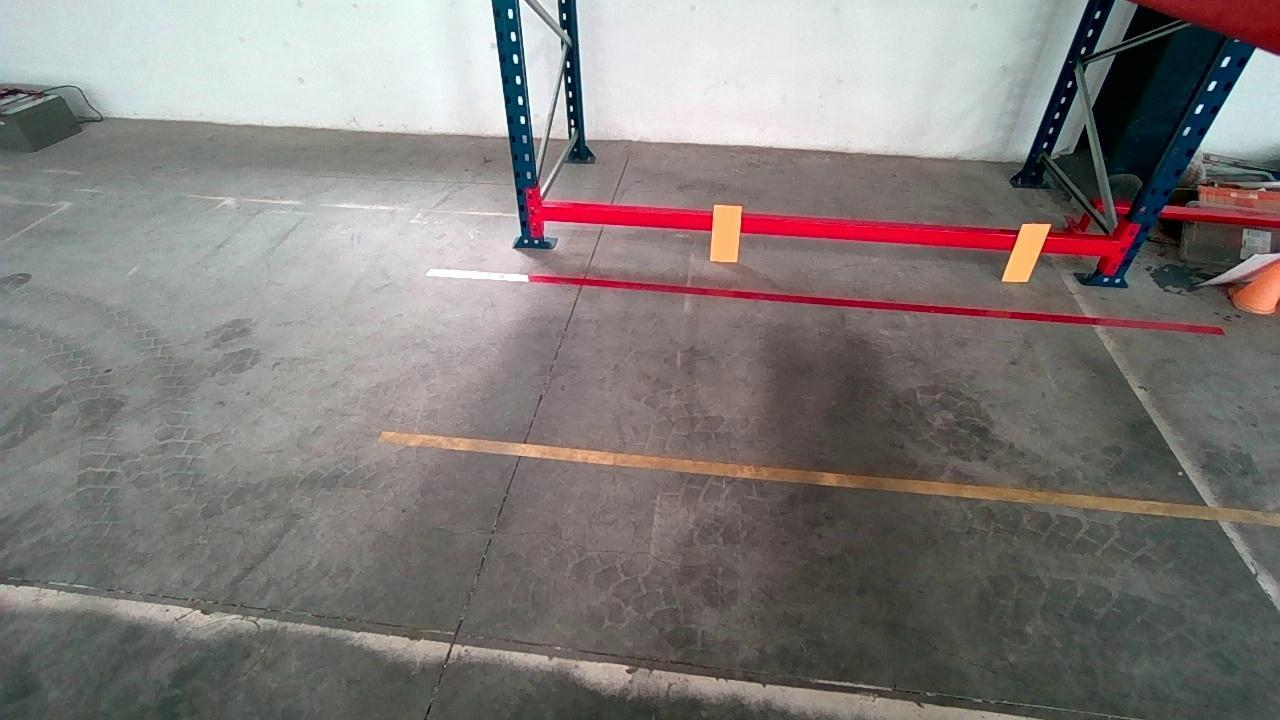h_rack: (538, 202, 1125, 256)
orange_strip: (1003, 222, 1053, 281), (711, 204, 741, 260)
red_line: (419, 267, 1232, 333)
yellow_line: (379, 431, 1280, 532)
